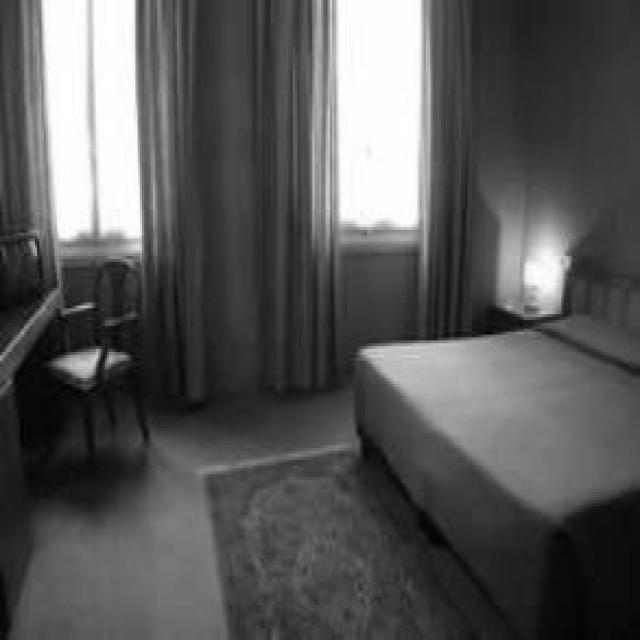Table: (0, 261, 65, 629)
chair: (44, 254, 180, 469)
